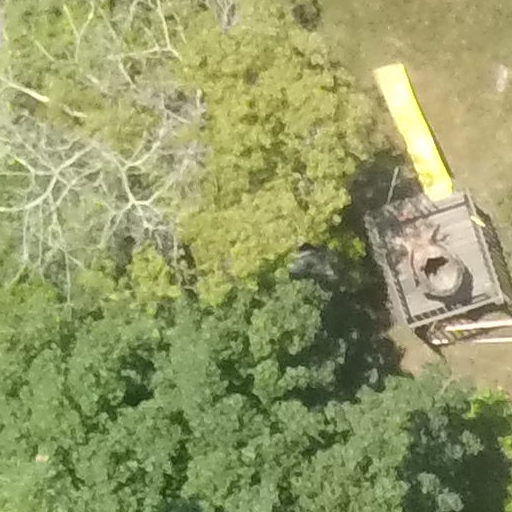container: (419, 239, 470, 301)
toy: (370, 54, 465, 203)
treehouse: (360, 174, 512, 346)
